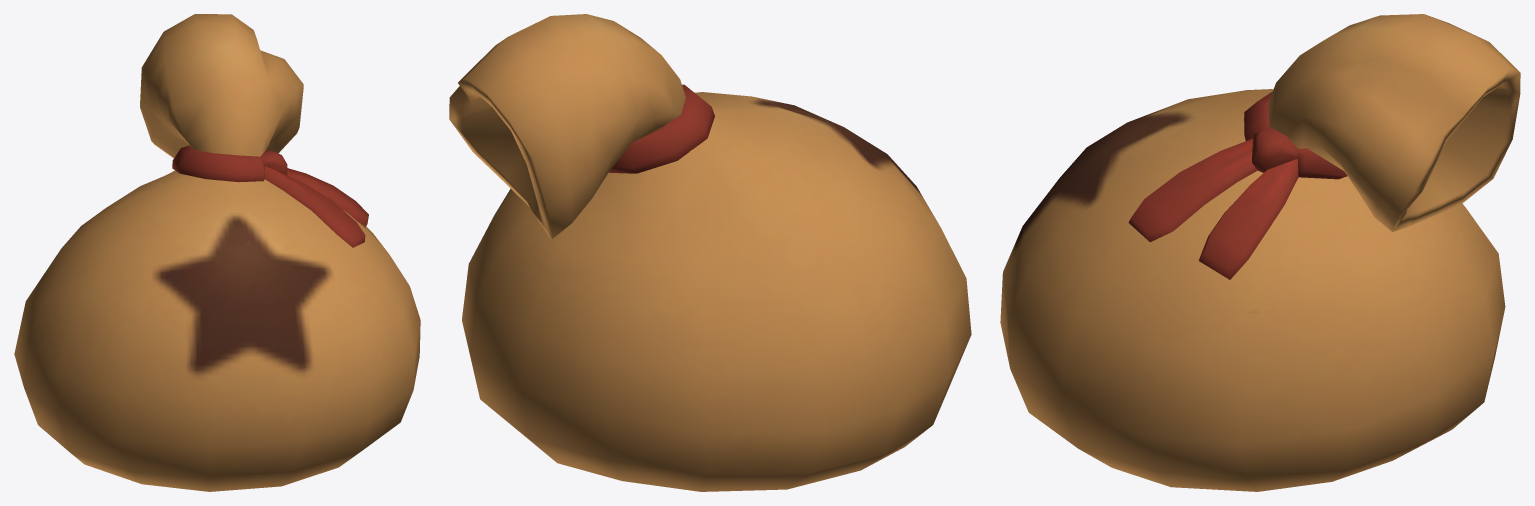
File: Bell Bag.glb
3 views of the same model, side by side, from view 1: azimuth 30°, elevation 25°; view 2: azimuth 150°, elevation 25°; view 3: azimuth 270°, elevation 25° (orthographic). The views are drawn at different scales.
Visible parts, largest first — view 1: Body__mBody; view 2: Body__mBody; view 3: Body__mBody.
Part boxes in pixels (<box>): Body__mBody: <box>14,14,420,491</box>; Body__mBody: <box>449,14,971,491</box>; Body__mBody: <box>1000,14,1520,491</box>.
Bounding box in the file's own units: 4.66 × 4.48 × 4.81.
1 material, 1 textured.
